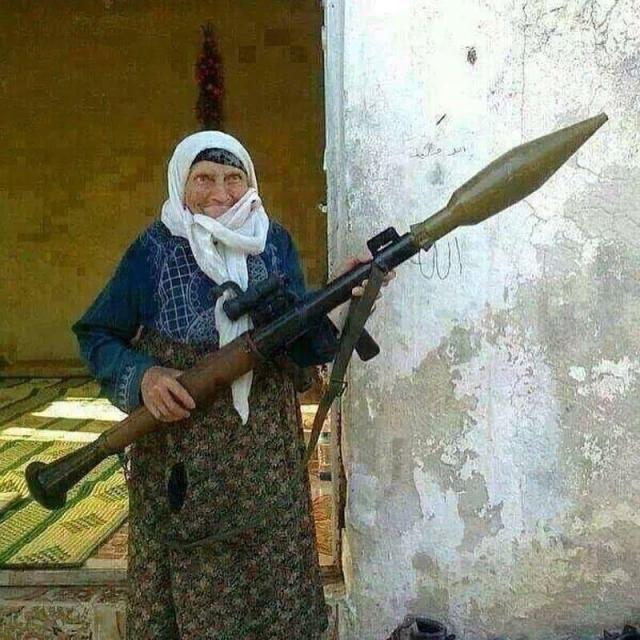bazooka: (4, 73, 628, 533)
